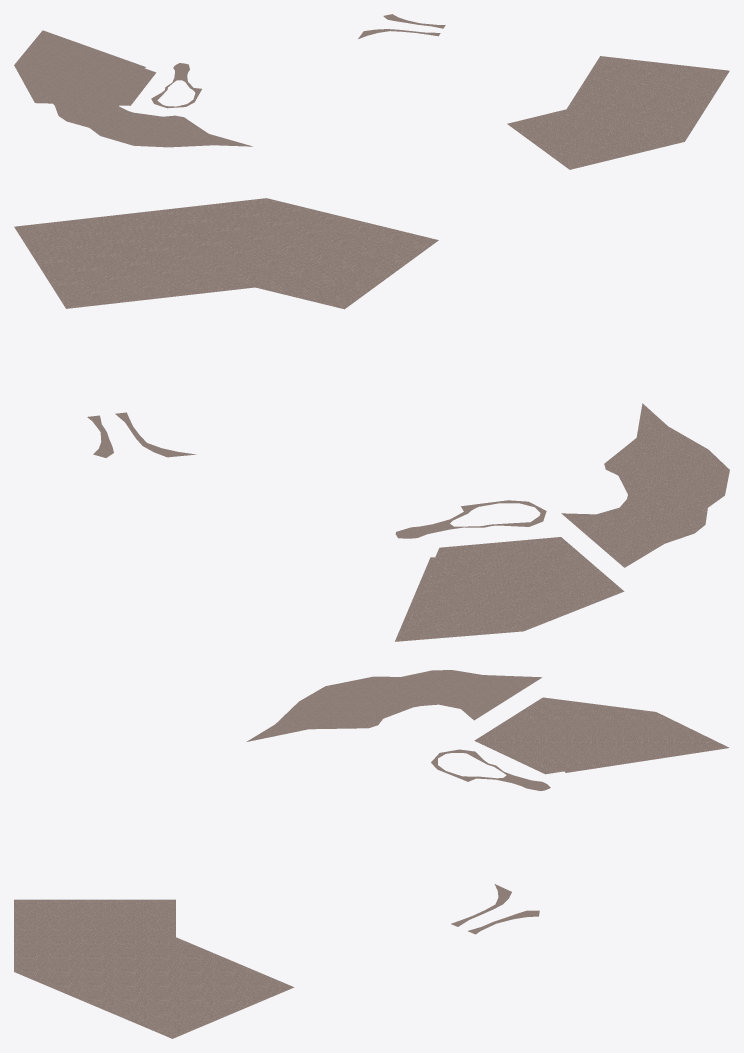
The model's file is kd_connection_town-ground_surface_3_5.glb.
The picture shows the model from 3 angles, top to bottom: view 1: azimuth 30°, elevation 25°; view 2: azimuth 150°, elevation 25°; view 3: azimuth 270°, elevation 25°; orthographic projection. The views are drawn at different scales.
Visible parts, largest first — view 1: kd_connection_town-ground_surface_3_5; view 2: kd_connection_town-ground_surface_3_5; view 3: kd_connection_town-ground_surface_3_5.
Boxes of the visible parts, x1,y1,x2,y2 form: kd_connection_town-ground_surface_3_5: (14,14,729,169); kd_connection_town-ground_surface_3_5: (14,198,729,641); kd_connection_town-ground_surface_3_5: (14,670,729,1038).
Bounding box in the file's own units: 26.25 × 0.6999 × 22.5.
1 material, 1 textured.
